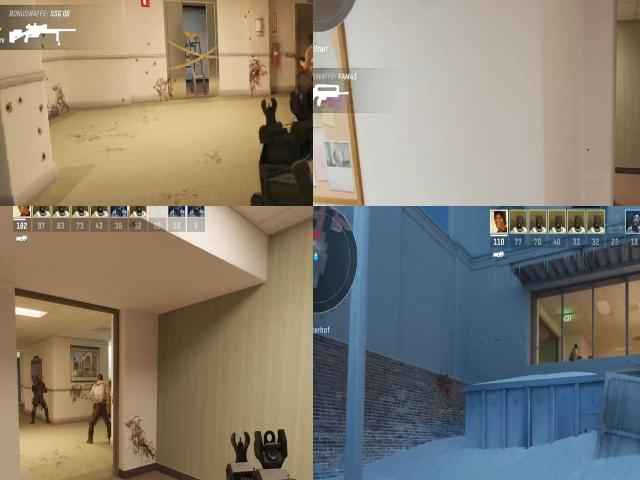CT: (32, 375, 48, 405)
CT-Head: (35, 375, 44, 385)
T: (296, 27, 313, 82), (90, 375, 110, 412), (569, 340, 580, 362), (94, 373, 105, 389)
T-Head: (301, 26, 313, 52), (572, 341, 580, 351)
